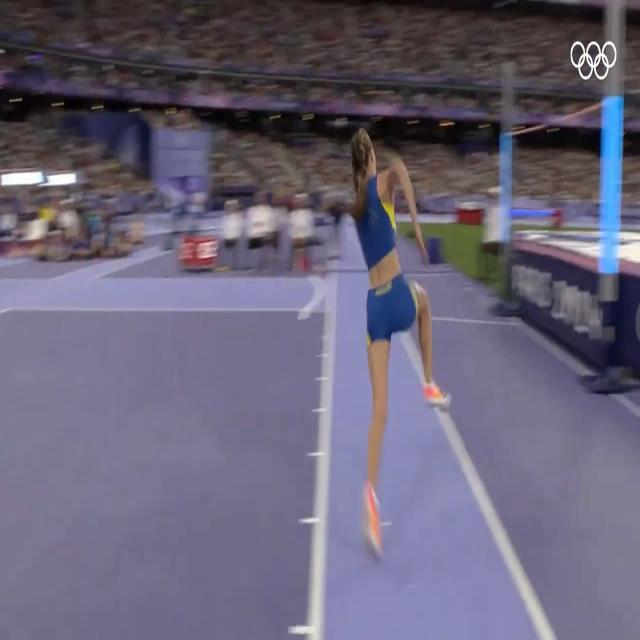run: (338, 132, 452, 566)
